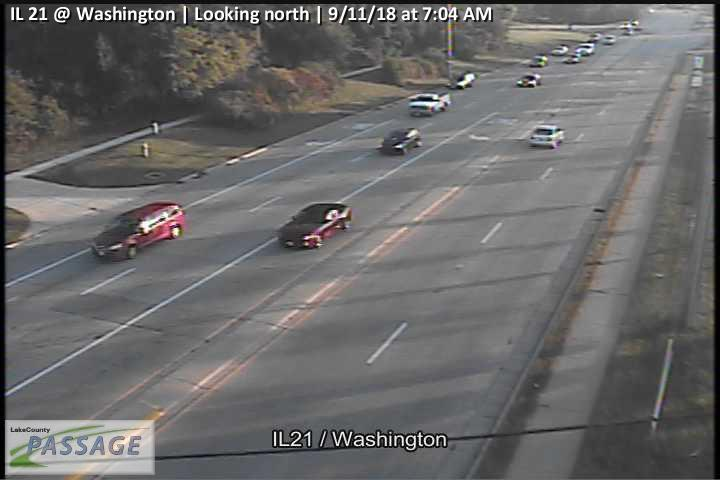SUV: (91, 201, 186, 261)
Sedan: (276, 202, 354, 249), (376, 126, 423, 156), (528, 123, 564, 149)
Truck: (407, 90, 450, 116), (516, 72, 542, 88)
